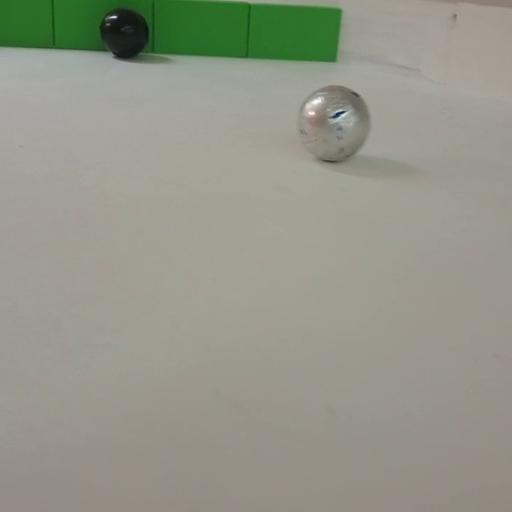alive: (297, 86, 370, 162)
dead: (100, 8, 150, 59)
